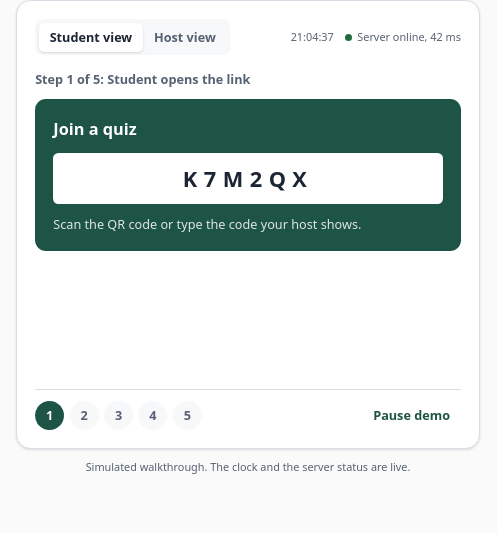
Test case: LiveDemo question › uses a generic question for a visitor who is not signed in
This screenshot has width=497, height=533.
Click the button named "step 3" at coordinates (118, 415), box [104,401,133,430]
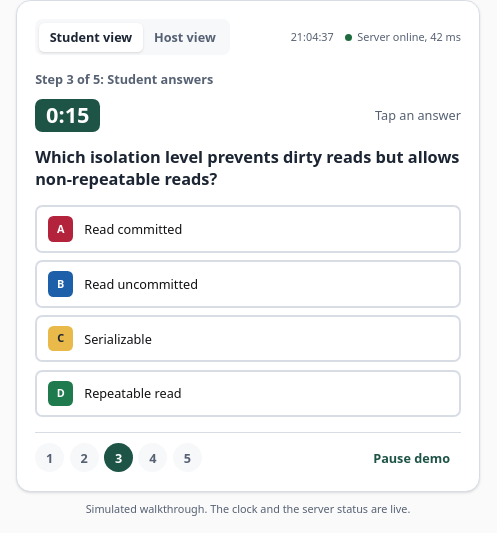
Now the text "Which isolation level prevents dirty reads but allows non-repeatable reads?" is shown, box [35,146,461,191]
